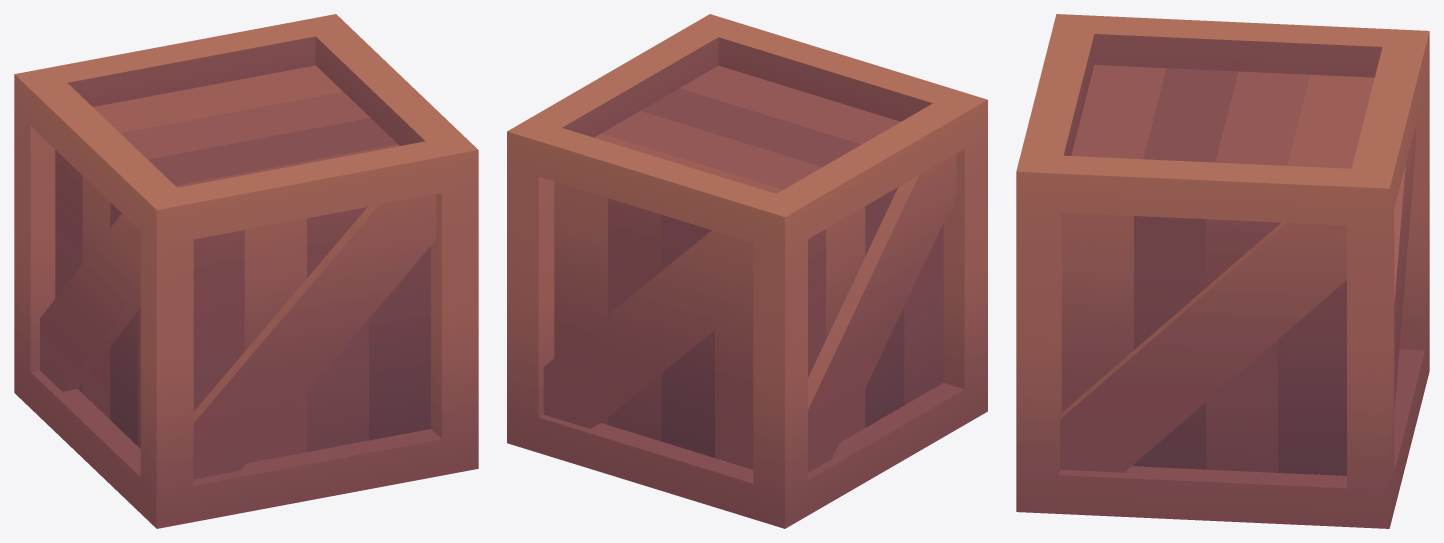
The model's file is village_town_crate.glb.
3 renders of one model, left to right at view 1: azimuth 30°, elevation 25°; view 2: azimuth 150°, elevation 25°; view 3: azimuth 270°, elevation 25°, orthographic. The views are drawn at different scales.
Visible parts, largest first — view 1: Crate.001_Material.005_0; view 2: Crate.001_Material.005_0; view 3: Crate.001_Material.005_0.
Part boxes in pixels (x1,y1,x2,y2): Crate.001_Material.005_0: [14, 14, 478, 528]; Crate.001_Material.005_0: [507, 14, 987, 528]; Crate.001_Material.005_0: [1016, 14, 1429, 528].
Bounding box in the file's own units: 0.7642 × 0.6941 × 0.7642.
Materials: 1 (1 with a texture image).
